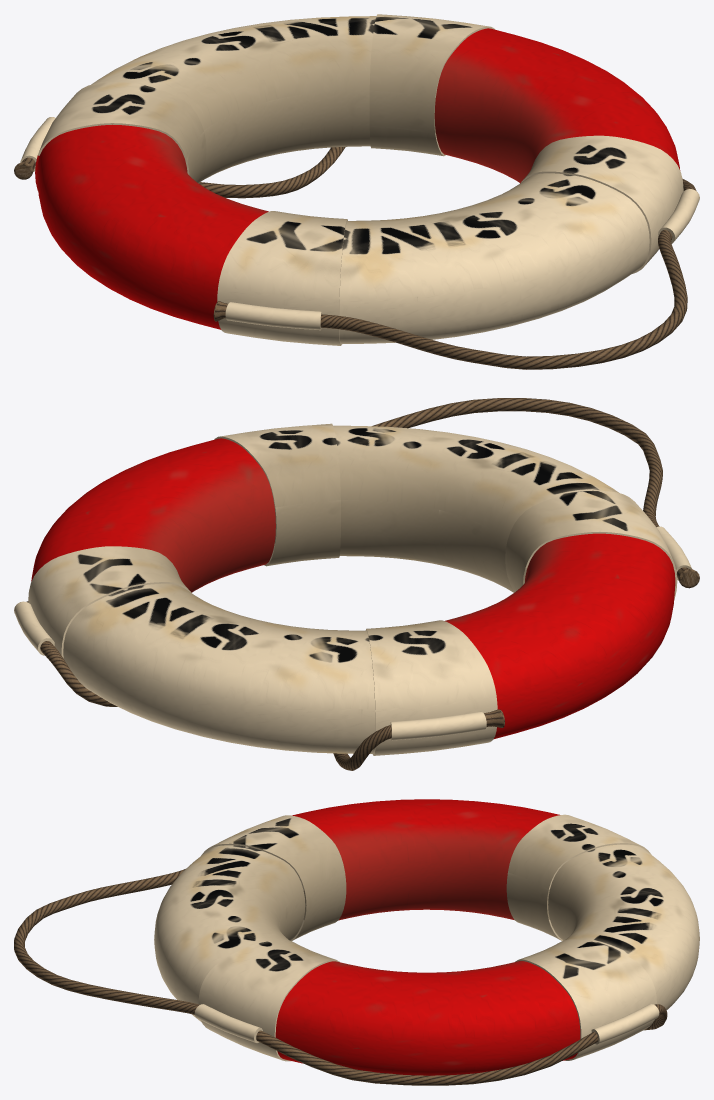
Rendered from Lifering Hi-poly.FBX.
The picture shows the model from 3 angles, top to bottom: view 1: azimuth 30°, elevation 25°; view 2: azimuth 150°, elevation 25°; view 3: azimuth 270°, elevation 25°; orthographic projection. The views are drawn at different scales.
Parts seen in each view (by area): view 1: Lifering, Lifering_Rope; view 2: Lifering, Lifering_Rope; view 3: Lifering, Lifering_Rope.
Boxes of the visible parts, x1,y1,x2,y2 form: Lifering: [20, 14, 699, 345]; Lifering_Rope: [14, 147, 696, 369]; Lifering: [14, 423, 691, 755]; Lifering_Rope: [26, 398, 699, 770]; Lifering: [154, 799, 699, 1075]; Lifering_Rope: [14, 869, 667, 1085].
Size of the model in its own units: 338 by 67.58 by 424.
